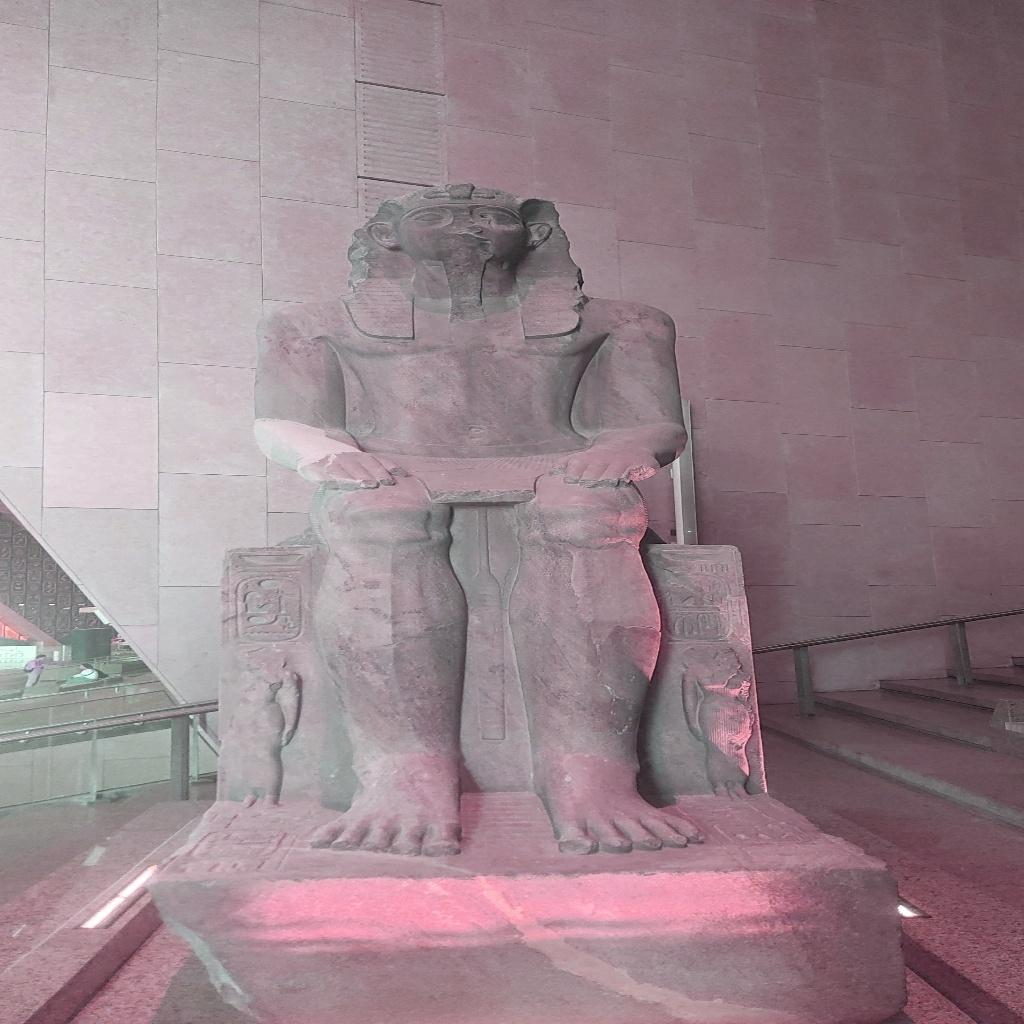Colossal Statue of Middle Kingdom King: (227, 180, 744, 858)
